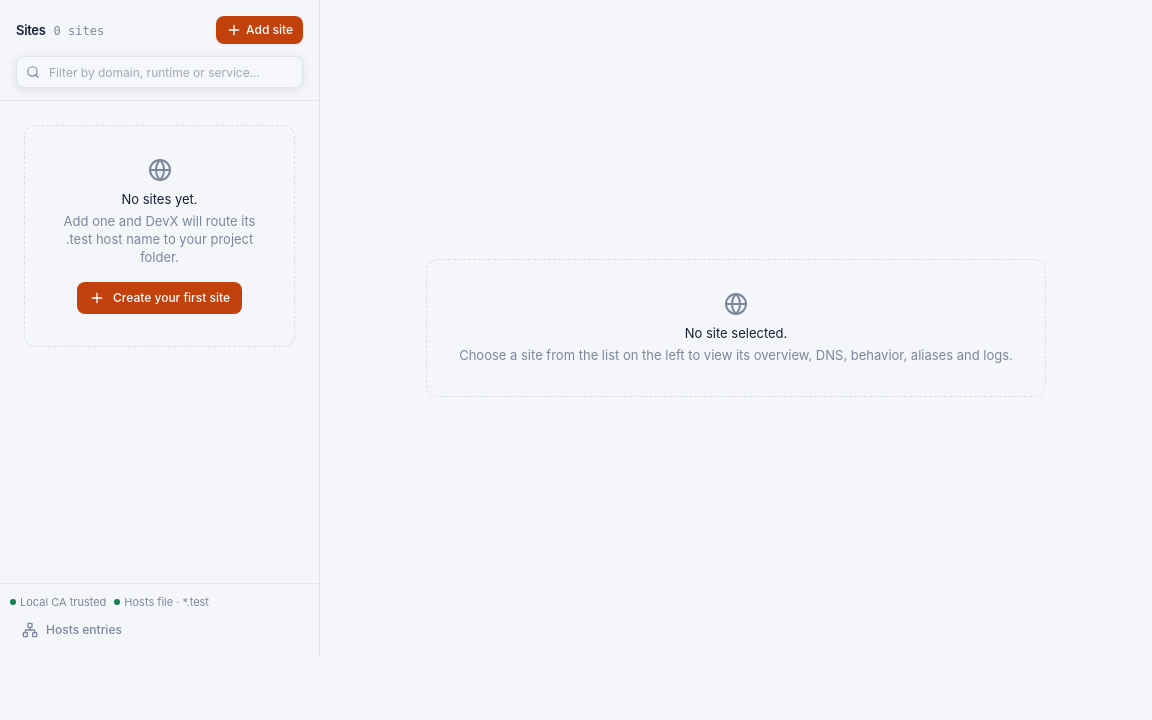
SitesPage › closes the create dialog from its own close button
Click the button "Add site": x=260, y=30 [216, 16, 303, 44]
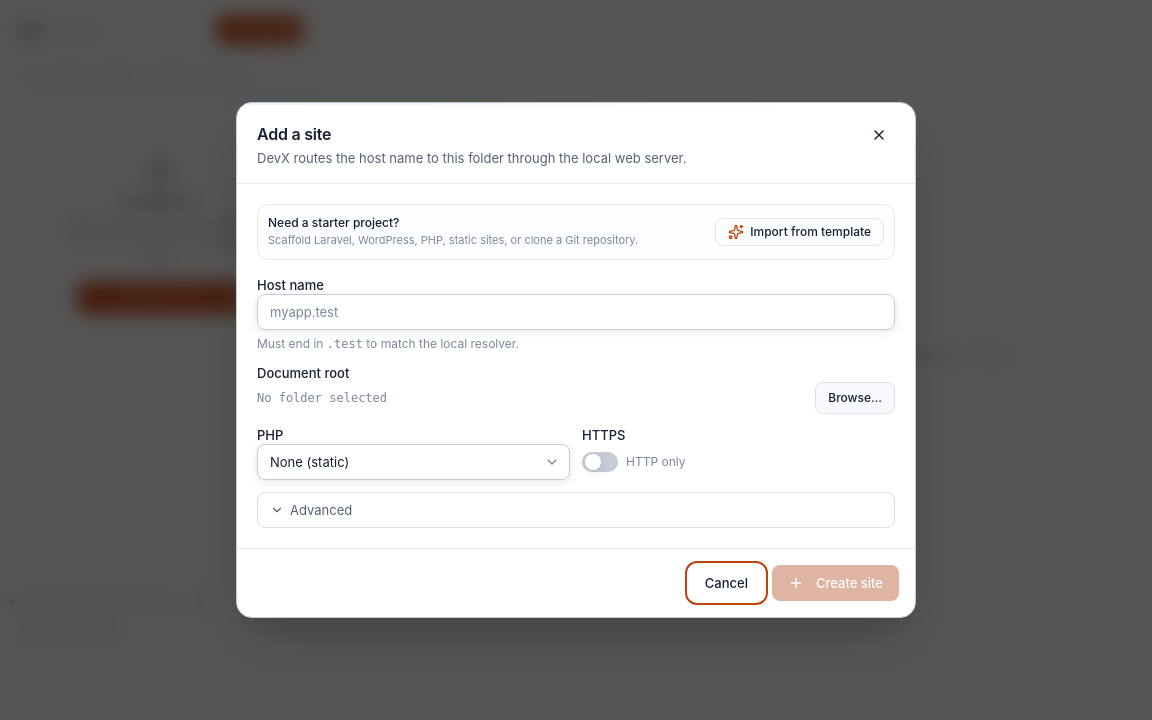
Click the button named "Close": x=879, y=135 [863, 119, 895, 151]
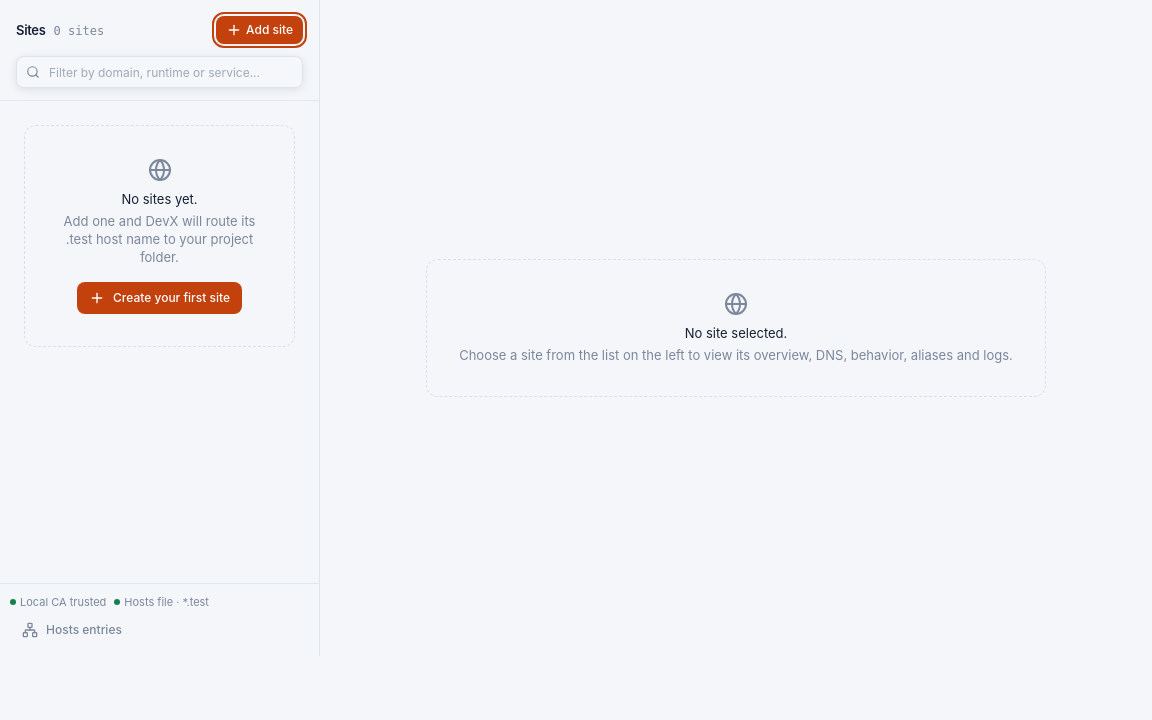
expect the dialog is gone: met
